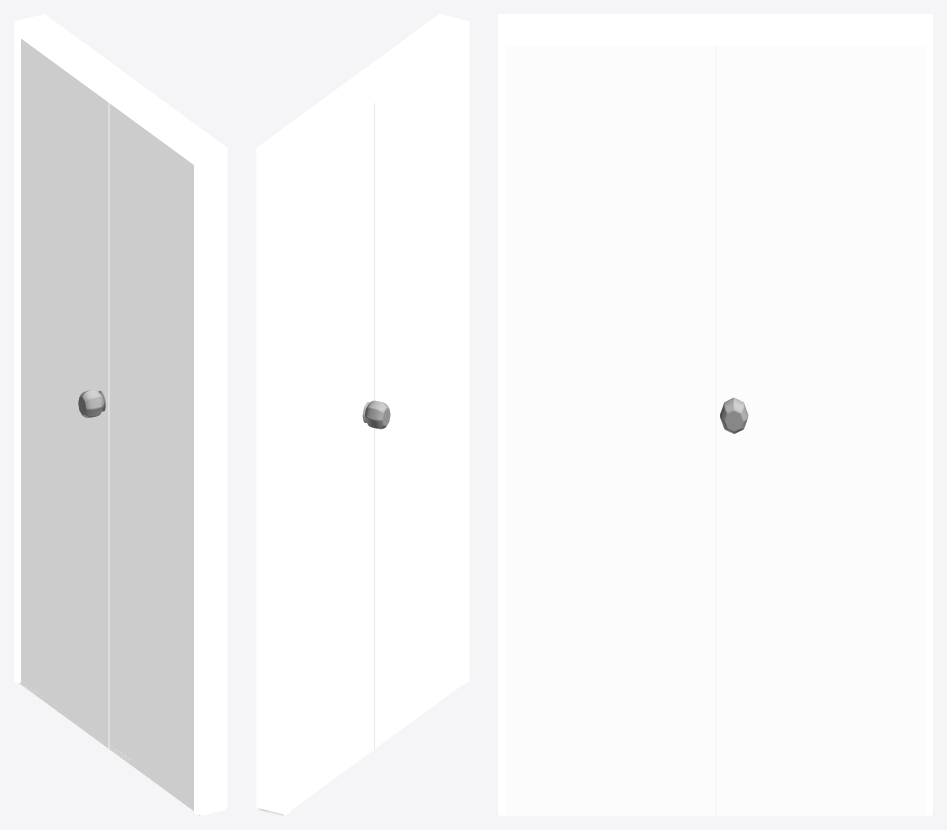
File: double_door_walkin.64f385dc.gltf
3 views of the same model, side by side, from view 1: azimuth 30°, elevation 25°; view 2: azimuth 150°, elevation 25°; view 3: azimuth 270°, elevation 25° (orthographic). The views are drawn at different scales.
Visible parts, largest first — view 1: door, trims, knob; view 2: door, trims, knob; view 3: door, trims, knob.
Boxes of the visible parts, x1=… form: door: x1=19, y1=38, x2=225, y2=815; trims: x1=14, y1=14, x2=227, y2=814; knob: x1=78, y1=389, x2=105, y2=417; door: x1=258, y1=38, x2=464, y2=815; trims: x1=256, y1=14, x2=469, y2=814; knob: x1=362, y1=400, x2=390, y2=429; door: x1=498, y1=46, x2=932, y2=815; trims: x1=498, y1=14, x2=932, y2=814; knob: x1=720, y1=397, x2=748, y2=433.
Bounding box in the file's own units: 0.6063 × 6.02 × 3.02.
3 materials, 1 textured.
